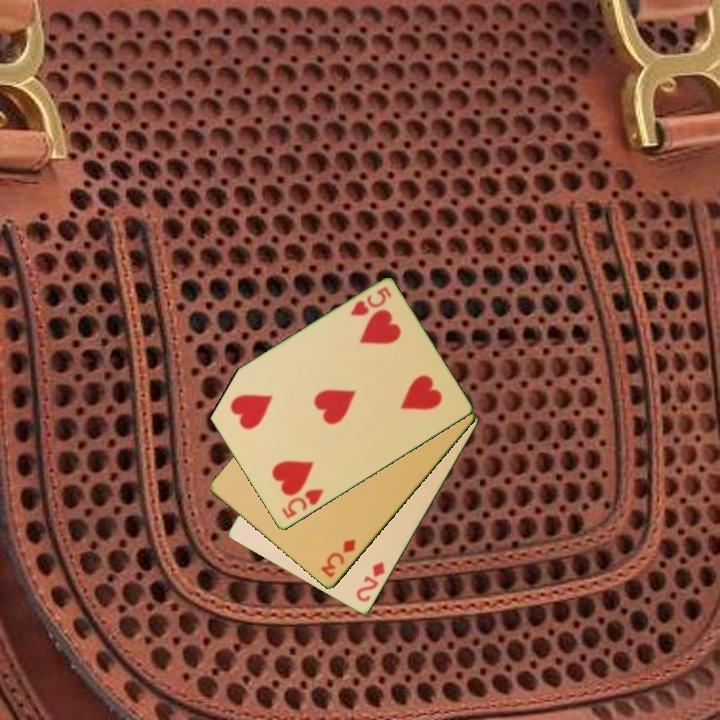2d: (353, 559, 388, 605)
3d: (317, 535, 359, 581)
5h: (278, 486, 327, 522), (347, 283, 394, 319)
